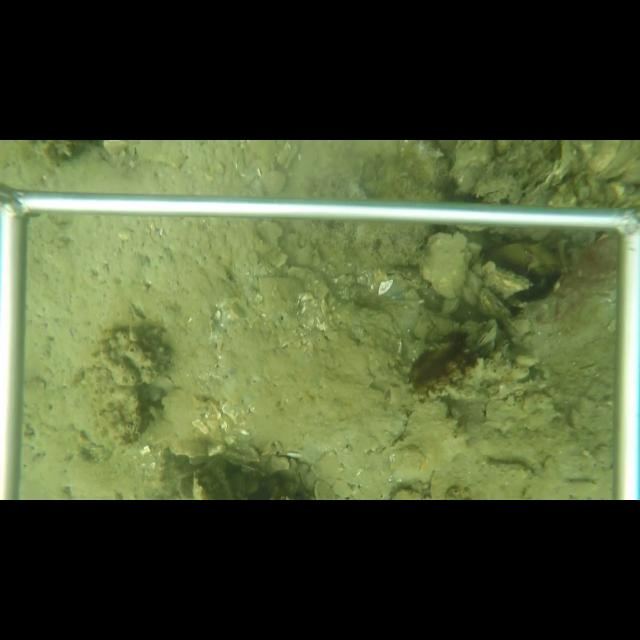Oyster-Closed: (158, 387, 224, 461), (417, 230, 475, 301), (517, 143, 575, 205), (476, 320, 498, 347), (483, 339, 496, 359)
